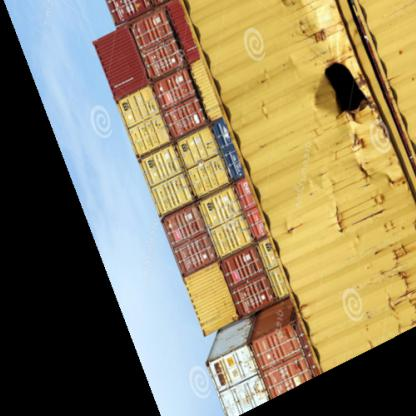Damage: (342, 135, 402, 297), (314, 23, 374, 132)
